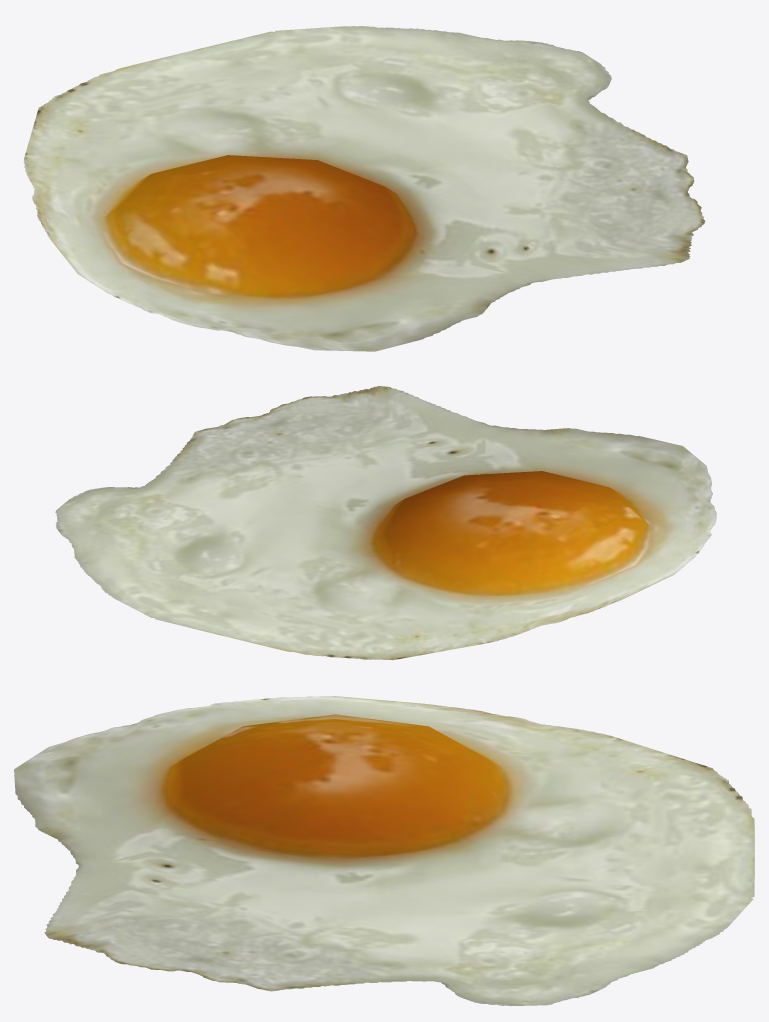
File: spiegelei.fbx
3 views of the same model, one above another, from view 1: azimuth 30°, elevation 25°; view 2: azimuth 150°, elevation 25°; view 3: azimuth 270°, elevation 25° (orthographic). The views are drawn at different scales.
Visible parts, largest first — view 1: Mesh; view 2: Mesh; view 3: Mesh.
Part boxes in pixels (x1,y1,x2,y2): Mesh: (23,26,705,351); Mesh: (55,386,716,660); Mesh: (14,696,754,1006).
Size of the model in its own units: 3.78 by 0.1993 by 3.79.
